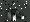person: (9, 7, 16, 21), (17, 12, 24, 19)
